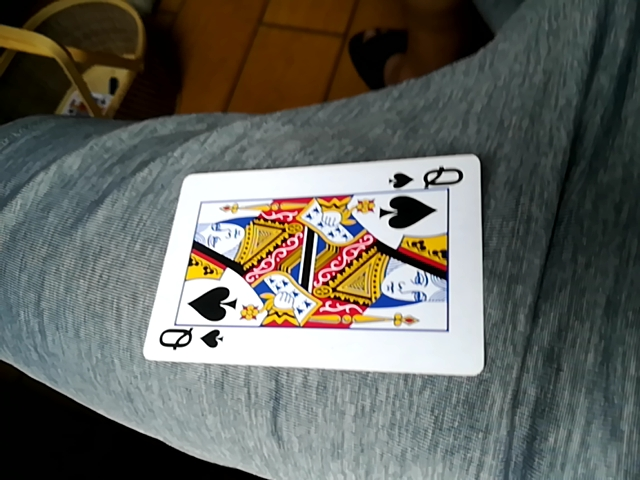ht q: (146, 154, 490, 381)
